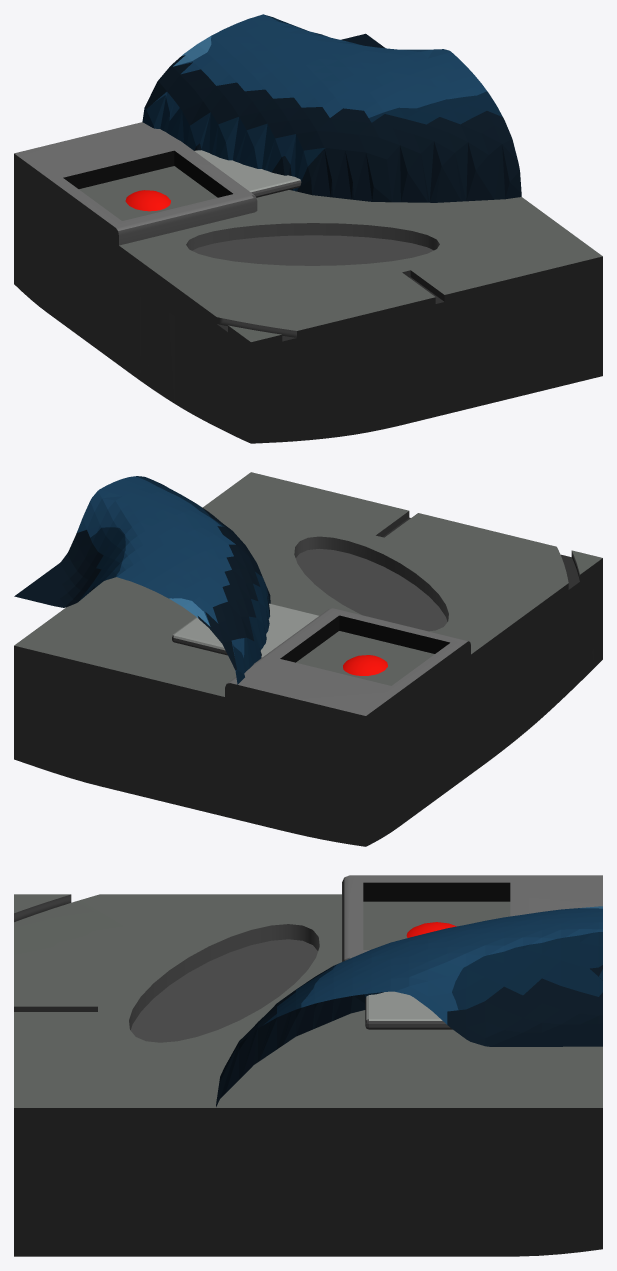
Rendered from camanis_boss_197.glb.
The picture shows the model from 3 angles, top to bottom: view 1: azimuth 30°, elevation 25°; view 2: azimuth 150°, elevation 25°; view 3: azimuth 270°, elevation 25°; orthographic projection. The views are drawn at different scales.
Parts seen in each view (by area): view 1: camanis_boss_197; view 2: camanis_boss_197; view 3: camanis_boss_197.
Part boxes in pixels (left/top/right/bottom): camanis_boss_197: left=14, top=14, right=602, bottom=443; camanis_boss_197: left=14, top=472, right=602, bottom=846; camanis_boss_197: left=14, top=875, right=602, bottom=1256.
Bounding box in the file's own units: 24 × 13.91 × 28.
